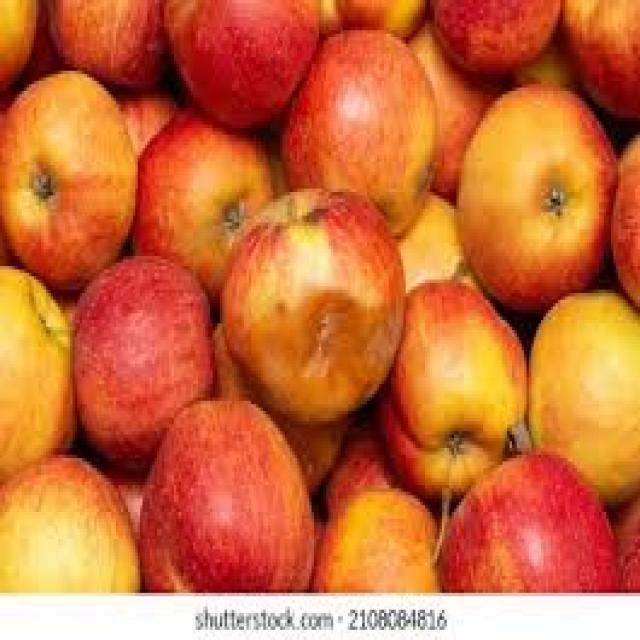Apple: (222, 205, 416, 426), (470, 92, 602, 297), (157, 414, 309, 590), (0, 74, 128, 273), (389, 294, 518, 490), (77, 274, 211, 454), (297, 53, 434, 226), (532, 296, 640, 506), (452, 466, 616, 599), (138, 122, 264, 280), (0, 459, 132, 596), (169, 8, 317, 117), (5, 272, 70, 470), (322, 495, 431, 595), (46, 3, 169, 85), (422, 0, 565, 69)
